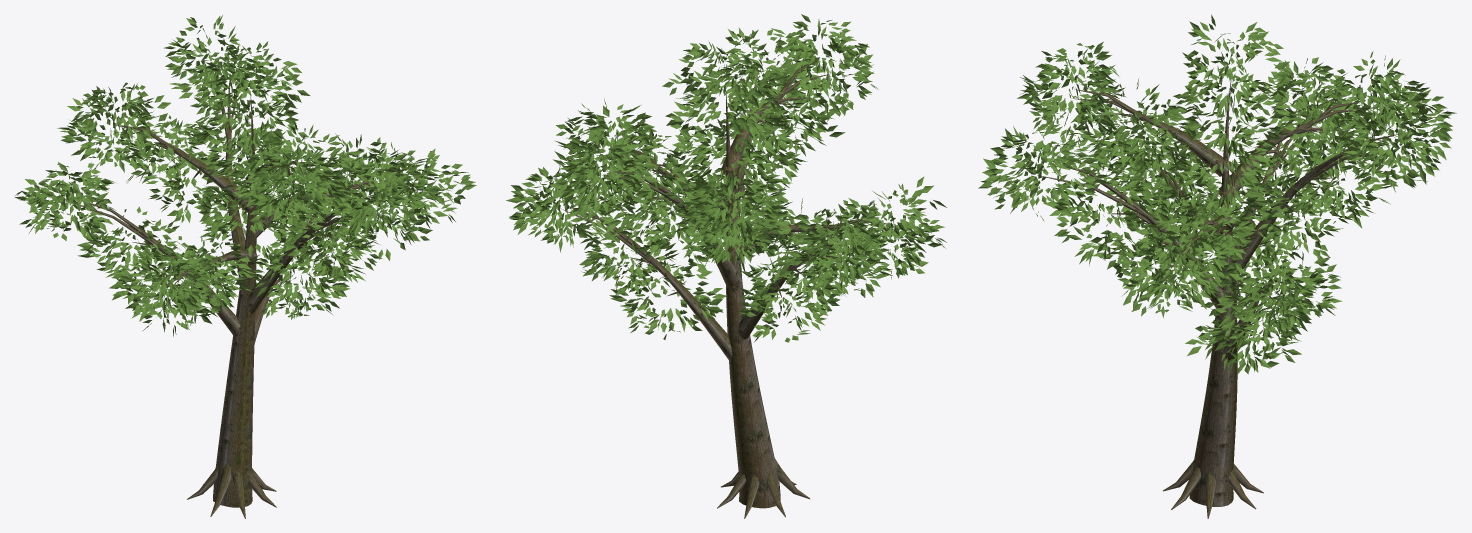
Rendered from veyra_swamp_crown_refined_011.dae.
The picture shows the model from 3 angles, left to right: view 1: azimuth 30°, elevation 25°; view 2: azimuth 150°, elevation 25°; view 3: azimuth 270°, elevation 25°; orthographic projection. The views are drawn at different scales.
Parts seen in each view (by area): view 1: g1-node, g0-node; view 2: g1-node, g0-node; view 3: g1-node, g0-node.
Part boxes in pixels (x1=…): g1-node: x1=15, y1=15, x2=476, y2=336; g0-node: x1=72, y1=62, x2=418, y2=518; g1-node: x1=506, y1=14, x2=946, y2=342; g0-node: x1=561, y1=59, x2=896, y2=518; g1-node: x1=978, y1=14, x2=1456, y2=374; g0-node: x1=1037, y1=72, x2=1400, y2=518.
Size of the model in its own units: 1972 by 1946 by 2166.
